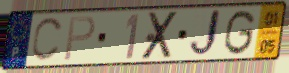1: (124, 13, 141, 62)
C: (29, 16, 65, 64)
G: (222, 8, 257, 57)
J: (187, 7, 224, 60)
P: (62, 14, 98, 63)
X: (139, 9, 181, 62)
